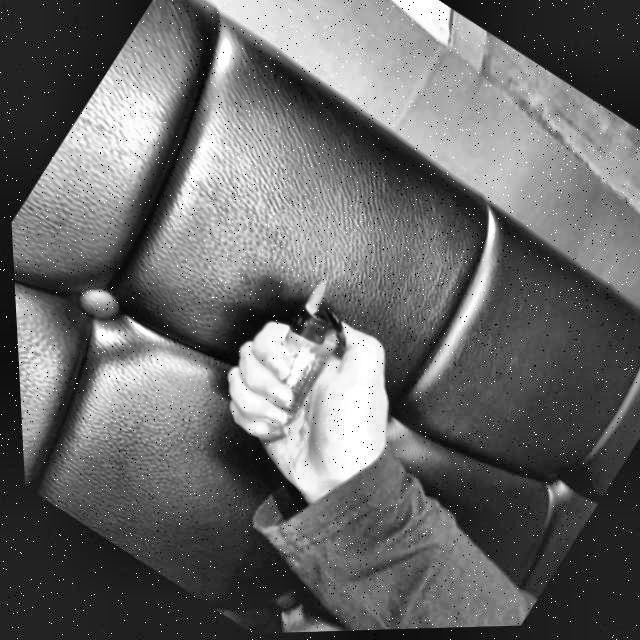Fire: (292, 277, 330, 319)
